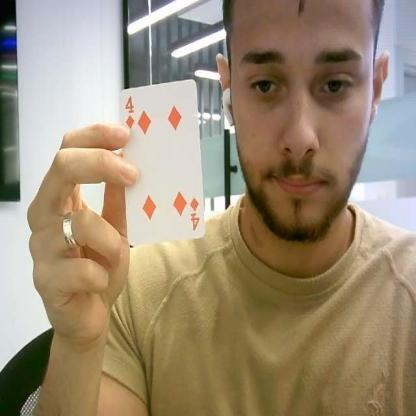4D: (188, 196, 200, 230), (125, 93, 134, 132)
